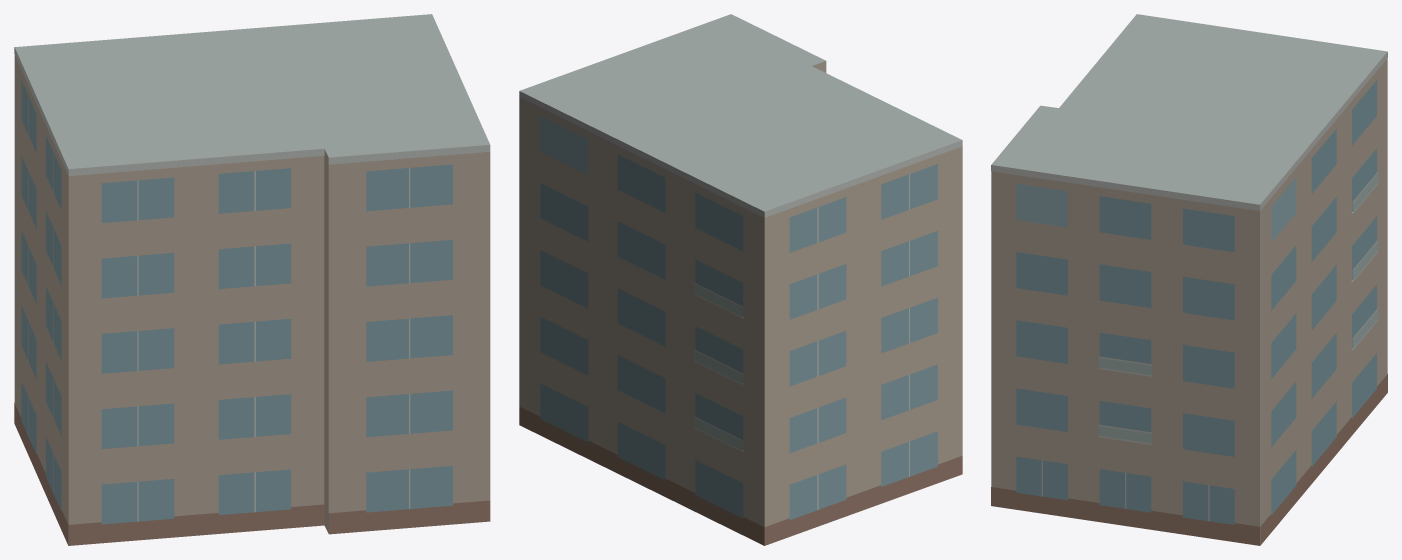
The model's file is survey-upis-32708249.glb.
The picture shows the model from 3 angles, left to right: view 1: azimuth 30°, elevation 25°; view 2: azimuth 150°, elevation 25°; view 3: azimuth 270°, elevation 25°; orthographic projection. The views are drawn at different scales.
Parts seen in each view (by area): view 1: survey-upis-32708249.tmp; view 2: survey-upis-32708249.tmp; view 3: survey-upis-32708249.tmp.
Boxes of the visible parts, <box> form: survey-upis-32708249.tmp: <box>14,14,490,545</box>; survey-upis-32708249.tmp: <box>519,14,962,545</box>; survey-upis-32708249.tmp: <box>991,14,1387,545</box>.
Size of the model in its own units: 15.78 by 13.15 by 13.87.
